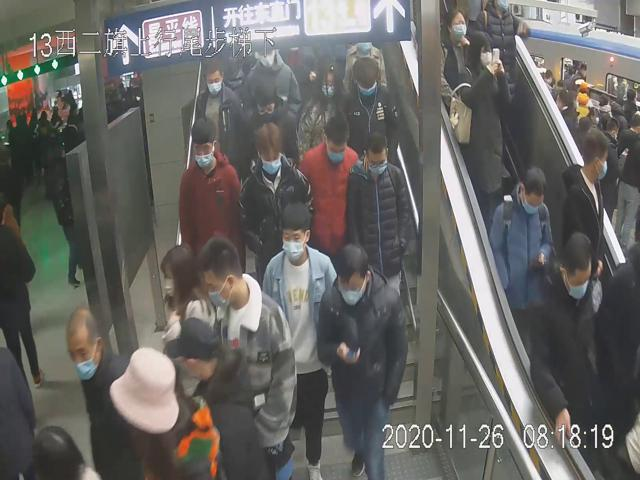person: (198, 235, 299, 464), (316, 240, 410, 480), (260, 201, 338, 480), (531, 228, 608, 444), (448, 27, 514, 215), (240, 119, 312, 282), (345, 128, 411, 298), (489, 164, 556, 328), (179, 116, 243, 282), (295, 114, 362, 265), (343, 54, 401, 166), (191, 58, 243, 164), (297, 56, 345, 147), (239, 80, 293, 160)
